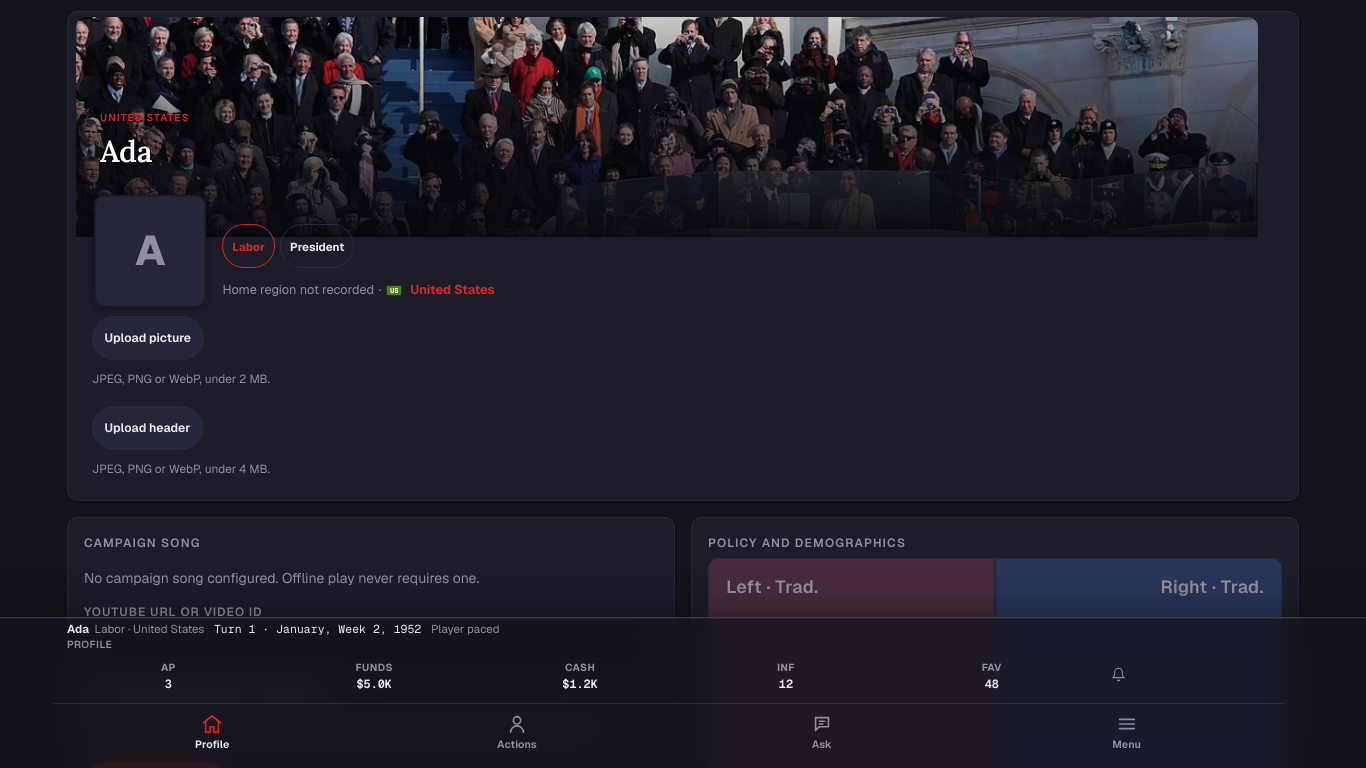
Test: HoS office-identity mark › HoS US flow: White House hero plus president mark, hierarchy intact
The image size is (1366, 768).
Click the button "Actions" at (517, 734), box left=365, top=706, right=669, bottom=762
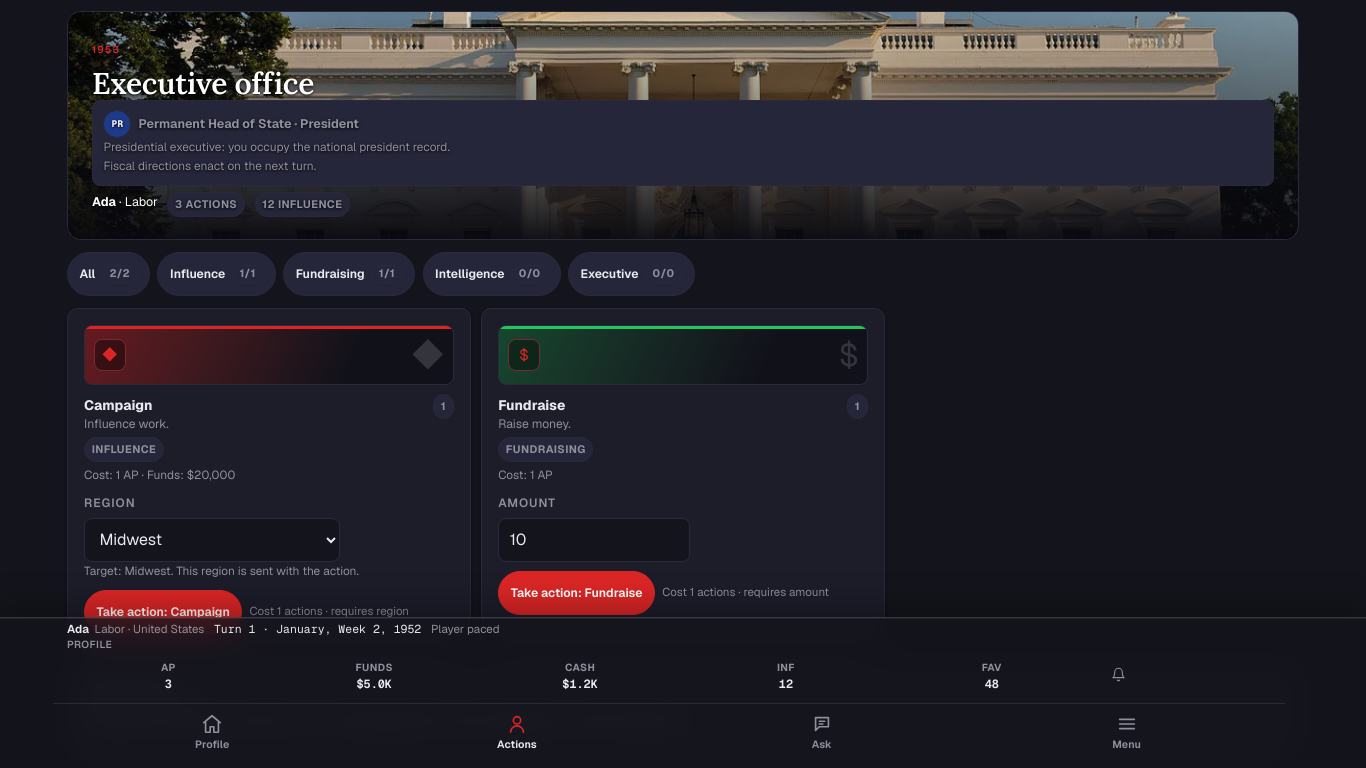
Expected: the heading "Executive office" is shown, left=92, top=64, right=314, bottom=102
Expected: the text "Permanent Head of State · President" is shown, left=139, top=114, right=359, bottom=134
Expected: the text "Presidential executive" is shown, left=103, top=139, right=450, bottom=154
